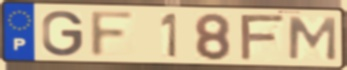1: (159, 12, 179, 60)
8: (193, 12, 233, 62)
F: (88, 9, 139, 60), (238, 13, 288, 62)
G: (40, 9, 86, 59)
M: (286, 15, 338, 63)
